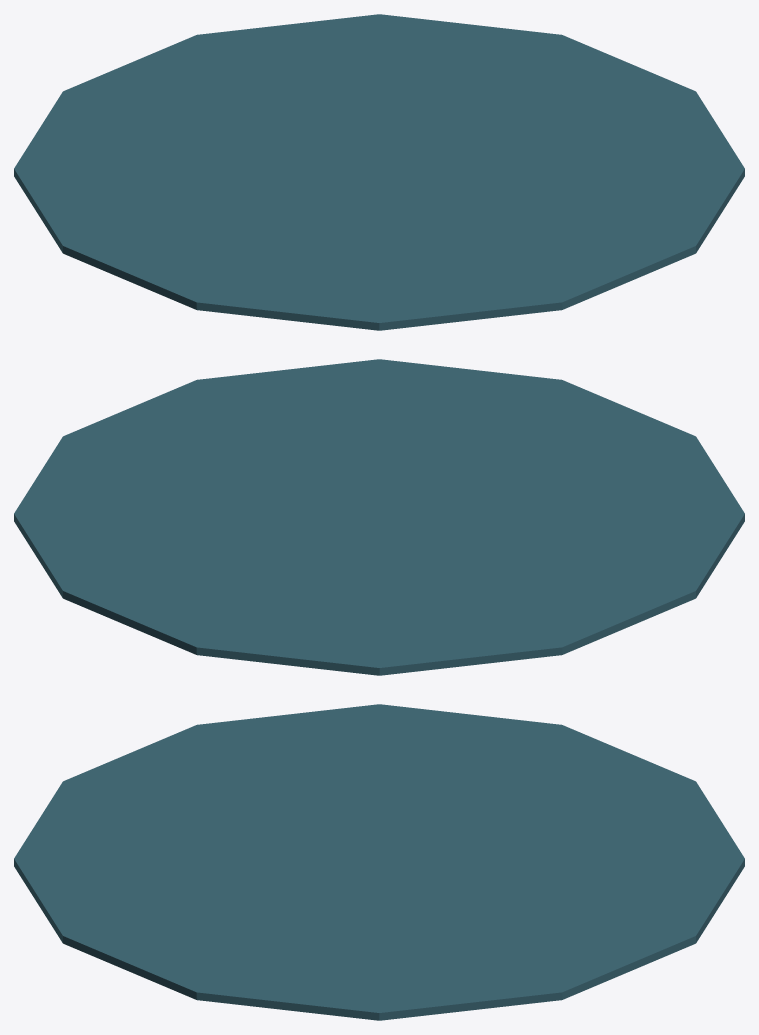
The model's file is water.glb.
The picture shows the model from 3 angles, top to bottom: view 1: azimuth 30°, elevation 25°; view 2: azimuth 150°, elevation 25°; view 3: azimuth 270°, elevation 25°; orthographic projection.
Visible parts, largest first — view 1: water; view 2: water; view 3: water.
Boxes of the visible parts, box(x1,y1,x2,y2) form: water: box(14, 14, 744, 330); water: box(14, 359, 744, 675); water: box(14, 704, 744, 1020).
Bounding box in the file's own units: 0.86 × 0.01 × 0.86.
